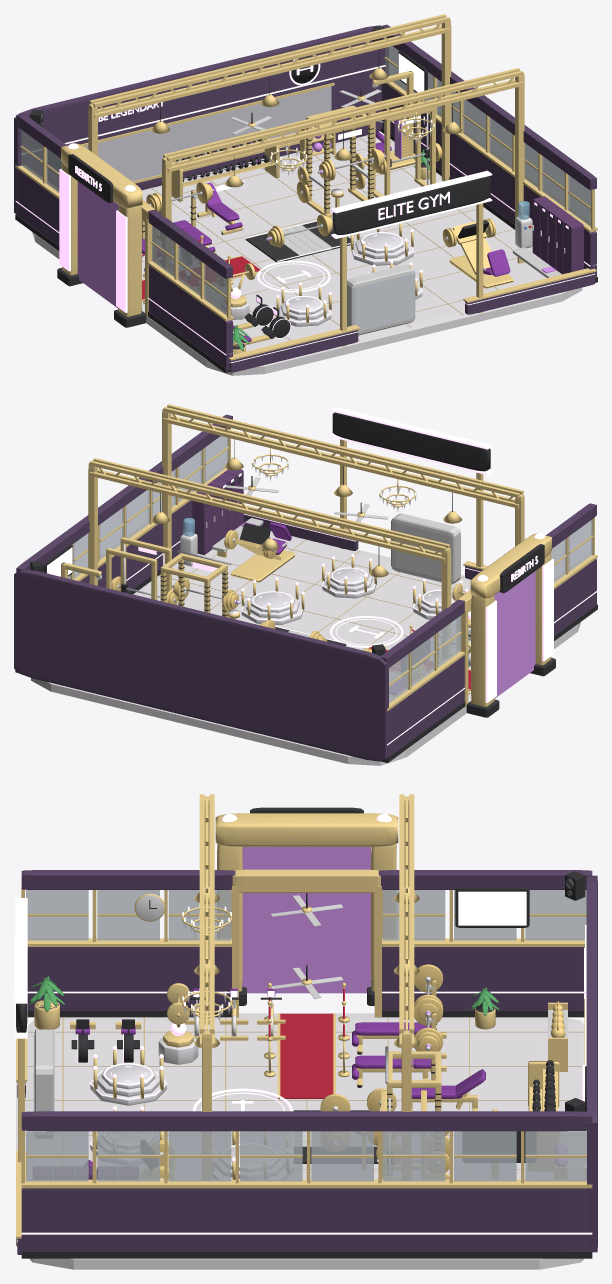
File: dm_gym3z3elite.glb
The picture shows the model from 3 angles, top to bottom: view 1: azimuth 30°, elevation 25°; view 2: azimuth 150°, elevation 25°; view 3: azimuth 270°, elevation 25°; orthographic projection. The views are drawn at different scales.
Parts seen in each view (by area): view 1: Z3_Marble_Floor, Z3_Marble_BackWall, Z3_Glass_Mirror, Z3_Marble_Wall.002, Z3_Wood_TrophyCase, Z3_Marble_Wall, Z3_ForceField_ArchBarrier, Z3_SmoothPlastic_ZoneSign, Z3_Marble_WallTop.002, Z3_Glass_TrophyGlass, Z3_Metal_Truss, Z3_Metal_Truss.004 (+59 smaller); view 2: Z3_Marble_BackWall, Z3_Marble_Floor, Z3_ForceField_ArchBarrier, Z3_SmoothPlastic_ZoneSign, Z3_Marble_Wall.001, Z3_Wood_TrophyCase, Z3_Marble_WallTop.002, Z3_Marble_Wall.002, Z3_Metal_Truss.005, Z3_Metal_Truss.001, Z3_Metal_Truss.007, Z3_Metal_Truss.003 (+38 smaller); view 3: Z3_Marble_Floor, Z3_Marble_Wall.002, Z3_ForceField_ArchBarrier, Z3_Marble_WallTop.002, Z3_Marble_Wall, Z3_Marble_Wall.001, Z3_Metal_ArchTop, Z3_Metal_WallTrim.002, Z3_Rubber_WallSkirt.002, Z3_Fabric_RedCarpet, Z3_Marble_BackWall, Z3_Marble_WallTop (+48 smaller).
Part boxes in pixels (x1,y1,x2,y2): Z3_Marble_Floor: (32, 136, 582, 375); Z3_Marble_BackWall: (14, 25, 388, 214); Z3_Glass_Mirror: (84, 86, 331, 181); Z3_Marble_Wall.002: (382, 83, 596, 277); Z3_Wood_TrophyCase: (347, 265, 415, 335); Z3_Marble_Wall: (148, 265, 232, 370); Z3_ForceField_ArchBarrier: (77, 181, 118, 308); Z3_SmoothPlastic_ZoneSign: (332, 176, 490, 235); Z3_Marble_WallTop.002: (380, 24, 596, 189); Z3_Glass_TrophyGlass: (354, 273, 414, 330); Z3_Metal_Truss: (167, 70, 523, 161); Z3_Metal_Truss.004: (93, 17, 449, 107); Z3_Marble_BackWall: (14, 569, 388, 761); Z3_Marble_Floor: (31, 531, 580, 765); Z3_ForceField_ArchBarrier: (494, 571, 535, 698); Z3_SmoothPlastic_ZoneSign: (332, 412, 490, 471); Z3_Marble_Wall.001: (384, 655, 464, 760); Z3_Wood_TrophyCase: (391, 513, 460, 584); Z3_Marble_WallTop.002: (16, 414, 232, 572); Z3_Marble_Wall.002: (80, 500, 192, 592); Z3_Metal_Truss.005: (89, 460, 446, 551); Z3_Metal_Truss.001: (163, 407, 519, 497); Z3_Metal_Truss.007: (89, 471, 445, 562); Z3_Metal_Truss.003: (163, 418, 518, 508); Z3_Marble_Floor: (16, 1013, 584, 1269); Z3_Marble_Wall.002: (21, 1188, 591, 1251); Z3_ForceField_ArchBarrier: (242, 847, 370, 993); Z3_Marble_WallTop.002: (21, 1111, 592, 1131); Z3_Marble_Wall: (27, 947, 231, 1010); Z3_Marble_Wall.001: (382, 947, 584, 1010); Z3_Metal_ArchTop: (215, 813, 398, 846); Z3_Metal_WallTrim.002: (21, 1179, 592, 1188); Z3_Rubber_WallSkirt.002: (21, 1251, 592, 1258); Z3_Fabric_RedCarpet: (278, 1013, 333, 1098); Z3_Marble_BackWall: (586, 875, 597, 1252); Z3_Marble_WallTop: (21, 870, 235, 889).
Size of the model in its own units: 44.5 by 18.28 by 40.93.
